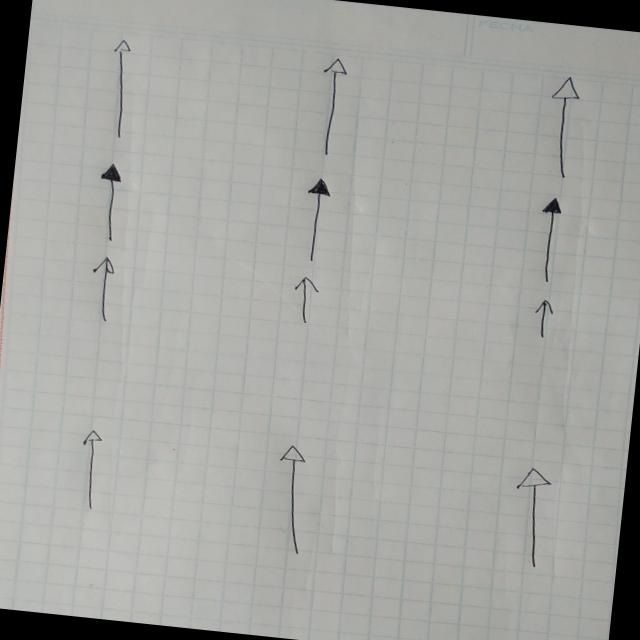arrow_line_up: (265, 440, 319, 556), (505, 460, 557, 570), (541, 73, 589, 171), (99, 36, 138, 140), (310, 55, 350, 156), (69, 424, 110, 515), (296, 175, 336, 268), (91, 161, 129, 243), (533, 192, 563, 286), (85, 254, 122, 322), (284, 275, 324, 326), (528, 297, 558, 341)
